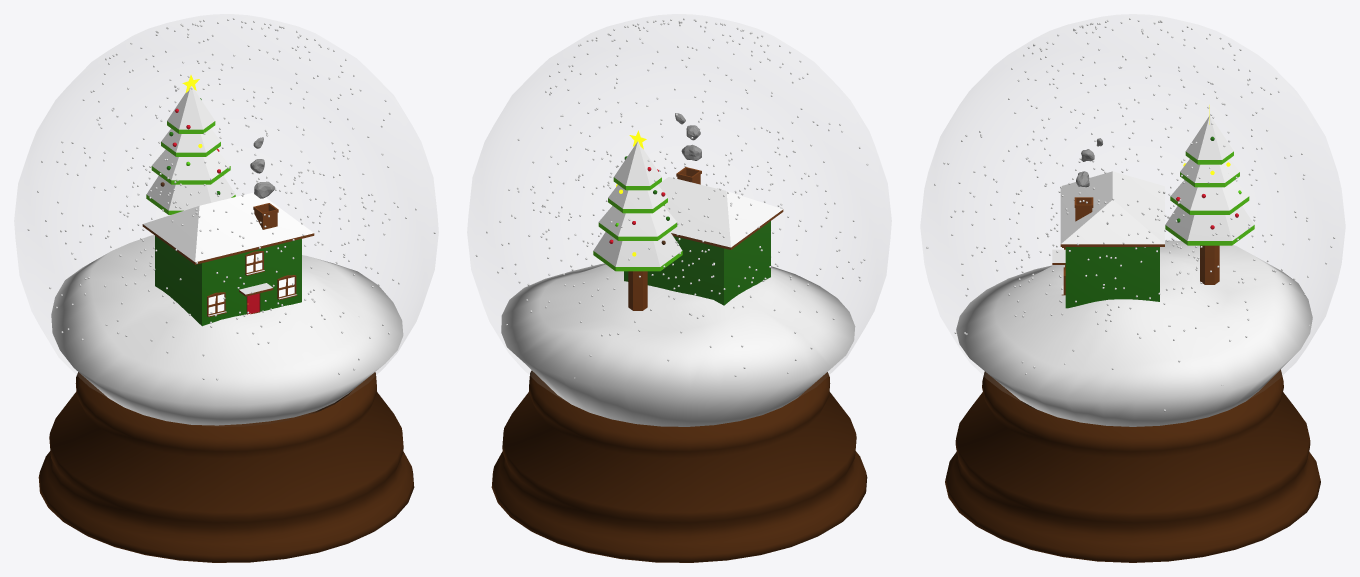
The model's file is snowglobe.gltf.
3 renders of one model, left to right at view 1: azimuth 30°, elevation 25°; view 2: azimuth 150°, elevation 25°; view 3: azimuth 270°, elevation 25°, orthographic.
Visible parts, largest first — view 1: Sphere; view 2: Sphere; view 3: Sphere.
Part boxes in pixels (x1,y1,x2,y2): Sphere: (38, 75, 414, 562); Sphere: (491, 113, 867, 562); Sphere: (945, 105, 1320, 562).
Size of the model in its own units: 421 by 493 by 421.
